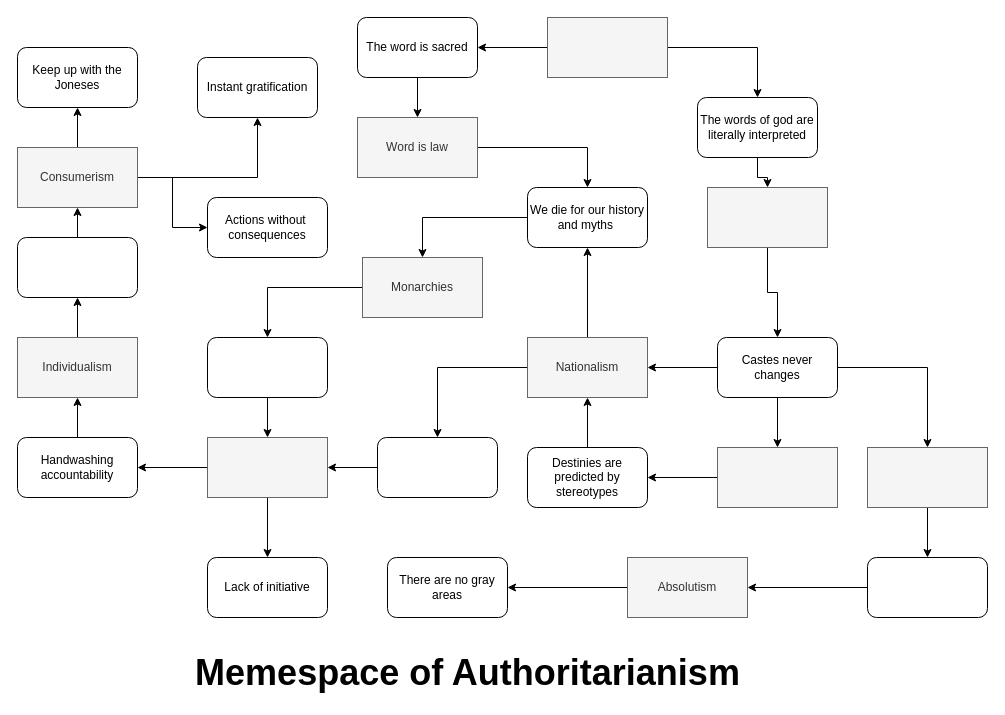
Image size: 1005x715. Some labels were removed from this diagram. Here are the shapes that lost their labels. From the top down, the centre of each, then its label:
At point 607,47: "Monoism".
At point 767,217: "Creationism".
At point 77,267: "Reasonable People think Me".
At point 267,367: "Honor your father and mother".
At point 267,467: "Hierarchical Bureacracies".
At point 437,467: "Might is right".
At point 777,477: "Predestination".
At point 927,477: "Rationalism".
At point 927,587: "Feelings aren't facts".
